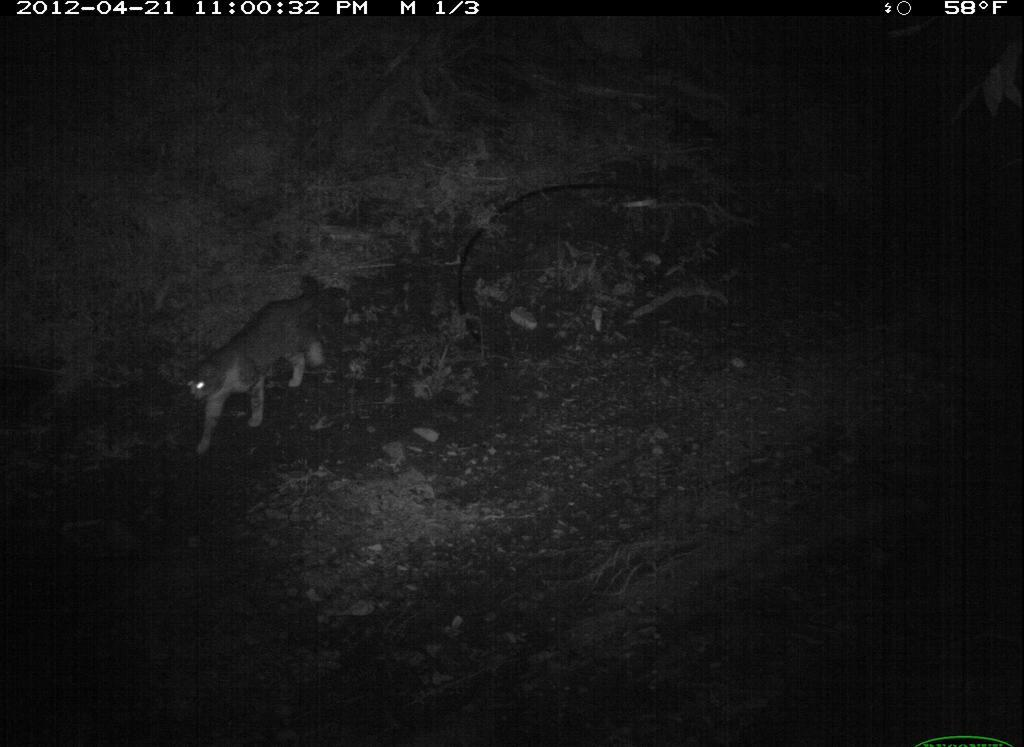cat: (176, 282, 331, 459)
